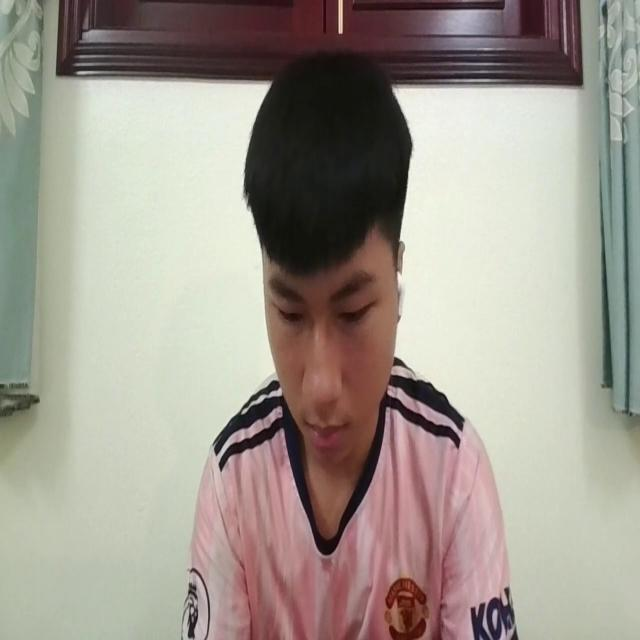student: (178, 50, 513, 640)
